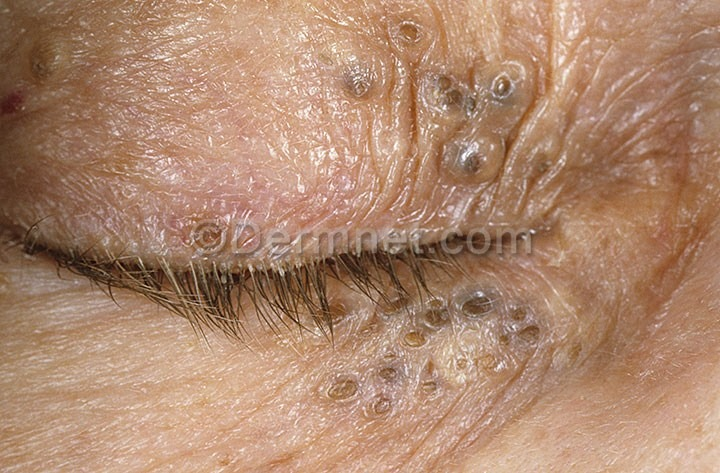Melasma: (300, 0, 711, 201), (285, 282, 596, 458), (2, 3, 104, 195)
